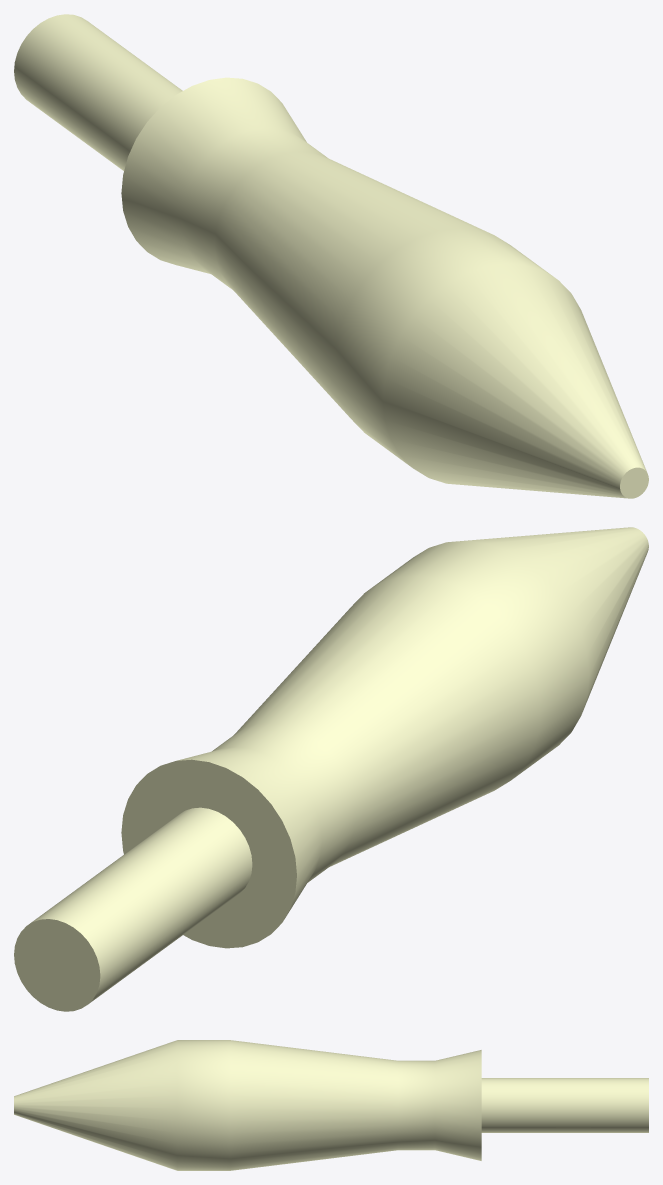
File: RPG Rocket.fbx
3 renders of one model, top to bottom at view 1: azimuth 30°, elevation 25°; view 2: azimuth 150°, elevation 25°; view 3: azimuth 270°, elevation 25°, orthographic. The views are drawn at different scales.
Parts seen in each view (by area): view 1: Rocket; view 2: Rocket; view 3: Rocket.
Boxes of the visible parts, <box> form: Rocket: <box>14,14,648,498</box>; Rocket: <box>14,527,648,1011</box>; Rocket: <box>14,1040,648,1170</box>.
Bounding box in the file's own units: 0.5314 × 2.58 × 0.5314.
